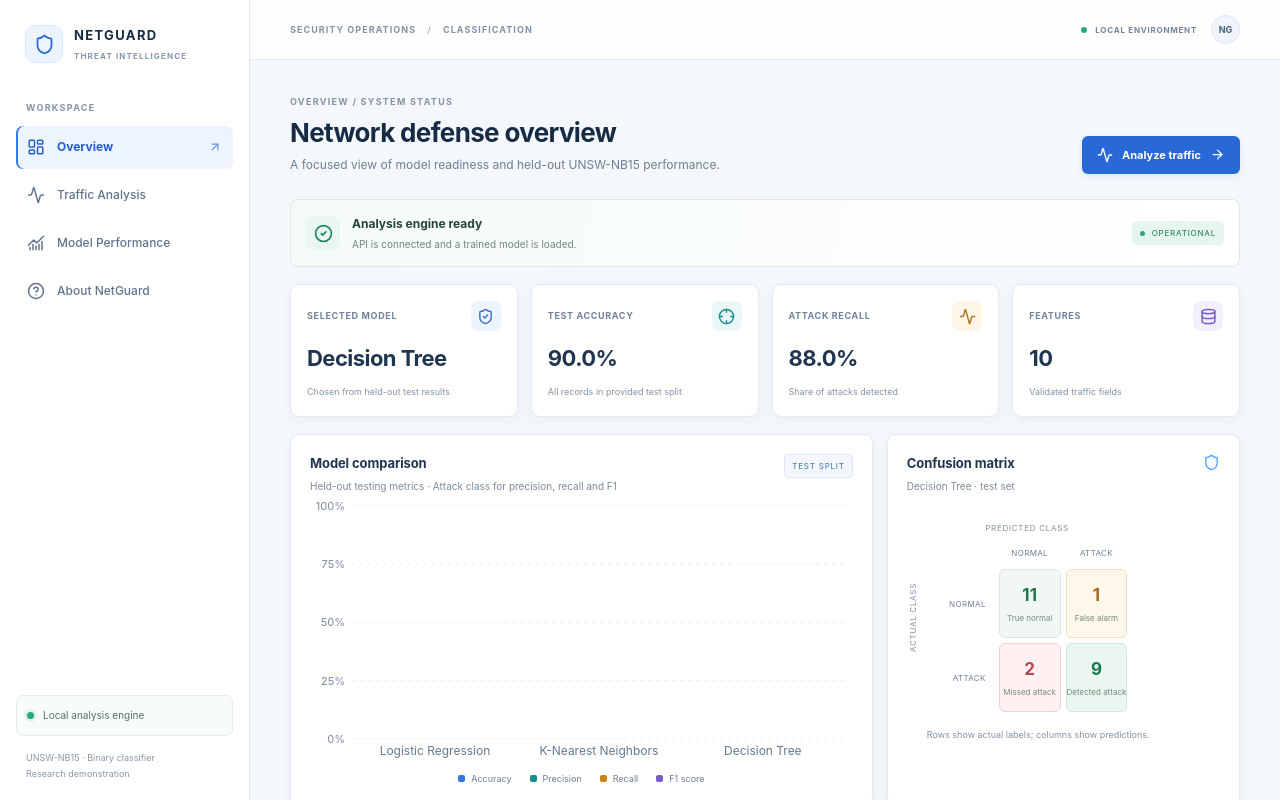
Test: NetGuard dashboard › renders backend-backed overview metrics and navigates between pages
Expected: the heading "Network defense overview" is shown, x1=290 y1=116 x2=616 y2=148
Expected: the text "90.0%" is shown, x1=548 y1=345 x2=617 y2=371
Click the link "Model Performance" at (99, 243), box x1=27 y1=234 x2=170 y2=252
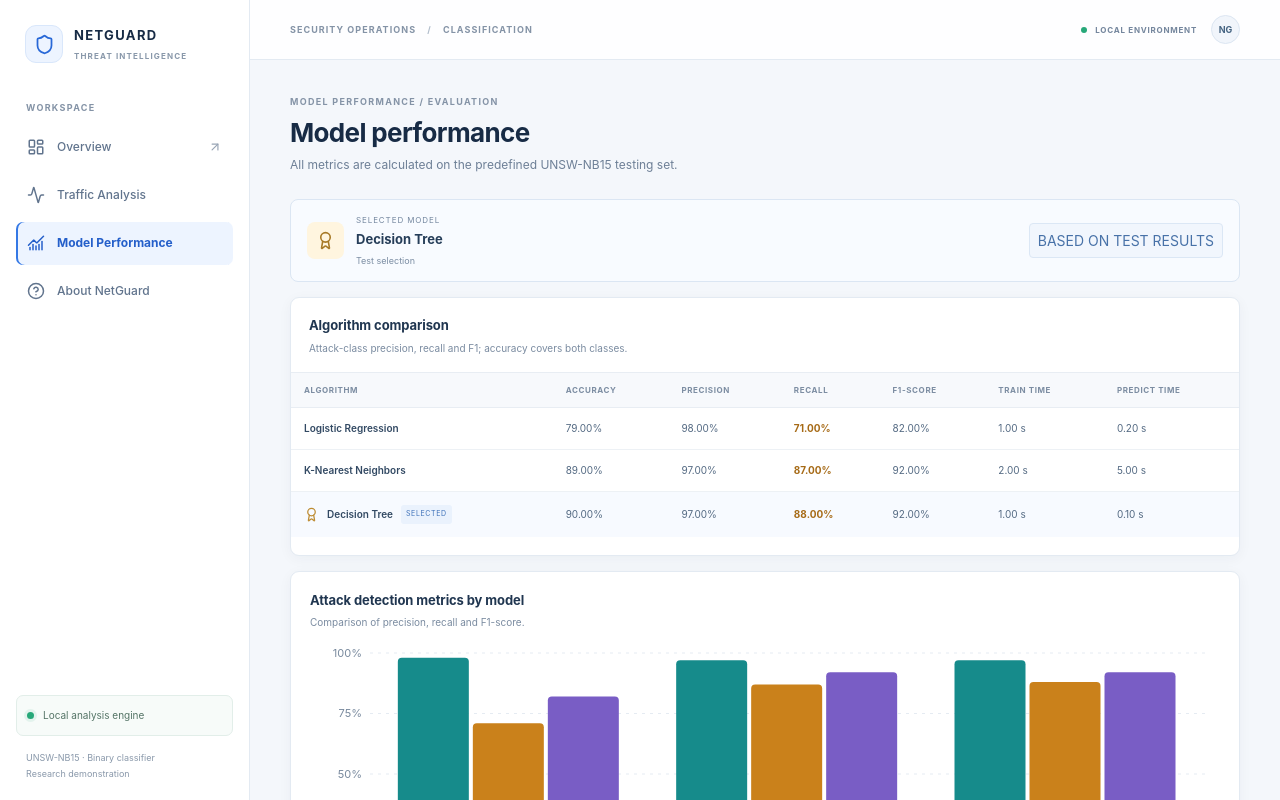
Expected: the heading "Model performance" is shown, x1=290 y1=116 x2=530 y2=148
Expected: the heading "Algorithm comparison" is shown, x1=309 y1=317 x2=449 y2=333
